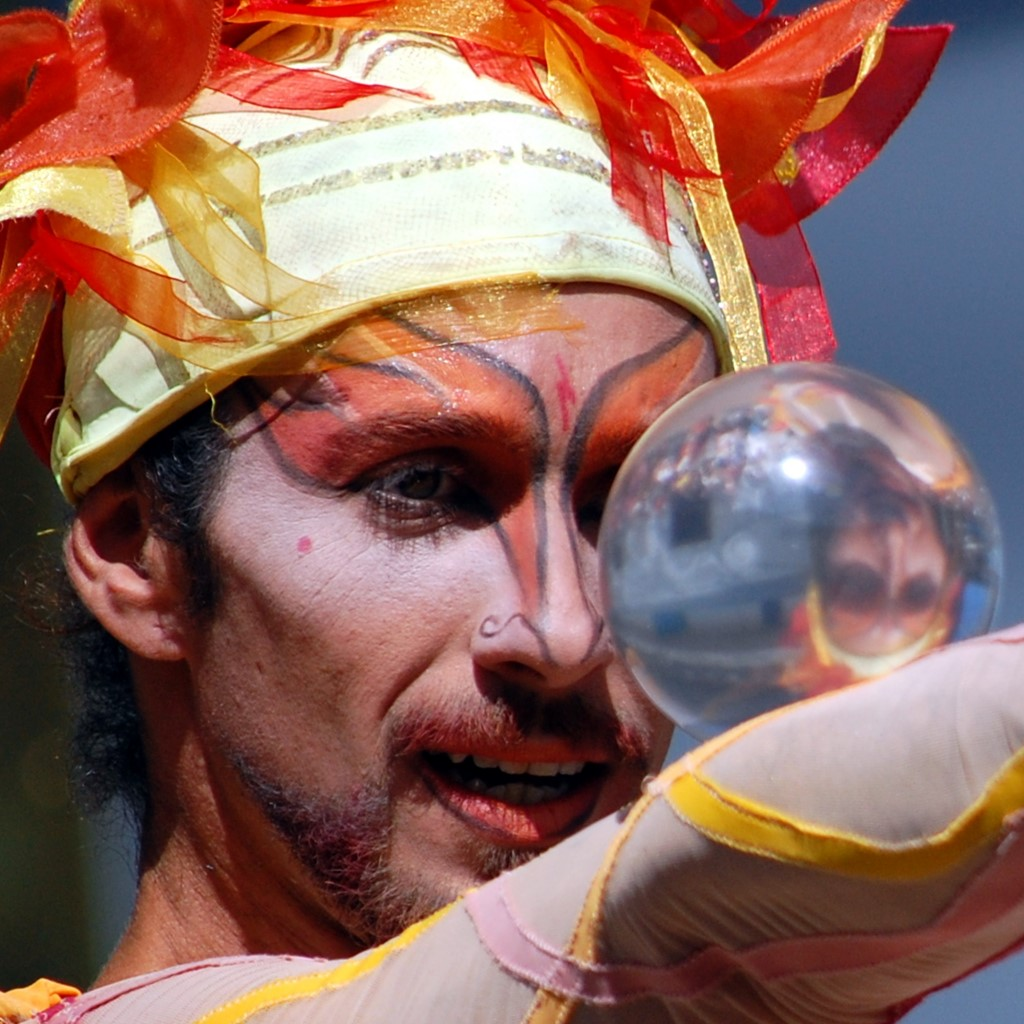sin_mascara: (151, 249, 728, 960)
